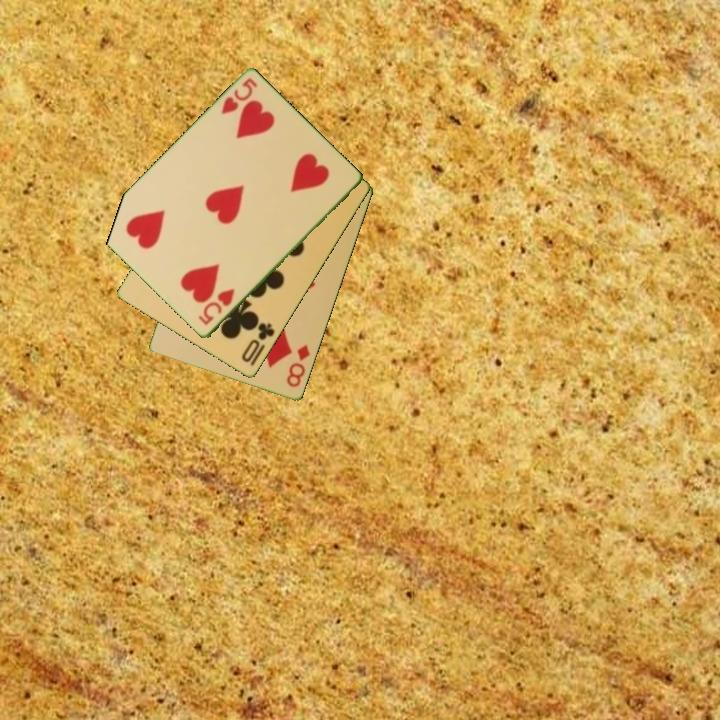10c: (238, 319, 278, 366)
5h: (194, 285, 237, 328), (218, 75, 261, 118)
8d: (283, 341, 313, 391)
